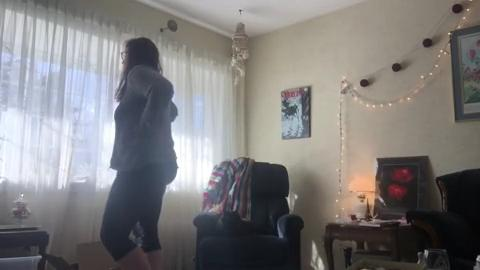blanket: (199, 156, 252, 222)
light: (334, 1, 472, 223)
person: (99, 37, 177, 270)
picture: (374, 156, 425, 218), (448, 26, 479, 121), (279, 86, 311, 138)
sofa_couch: (192, 162, 303, 269), (407, 168, 480, 270)
table_desk: (324, 218, 423, 270), (1, 224, 49, 270)
